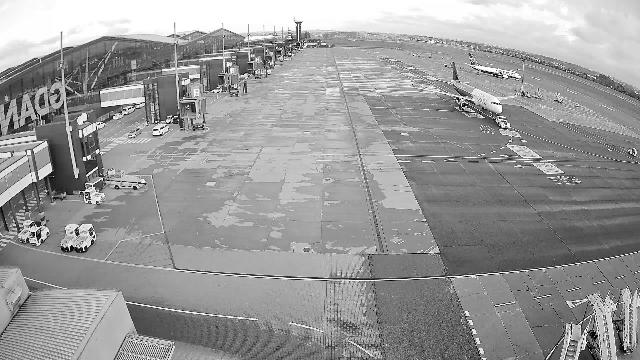Aircraft: (411, 61, 518, 119), (469, 53, 522, 79)
Airport_Tractor: (72, 224, 97, 253), (60, 224, 80, 252), (28, 226, 50, 246), (83, 186, 106, 205), (18, 220, 37, 243), (628, 148, 637, 156)
Baggage_Trolley: (85, 176, 104, 192), (52, 188, 66, 200)
Conveyor_Belt: (105, 170, 147, 190)
Pushback_Tug: (496, 116, 511, 129)
